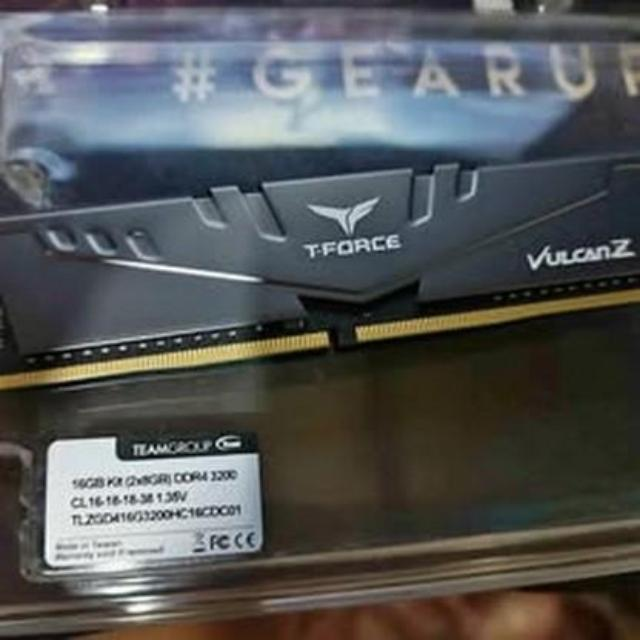RAM: (0, 152, 640, 362)
